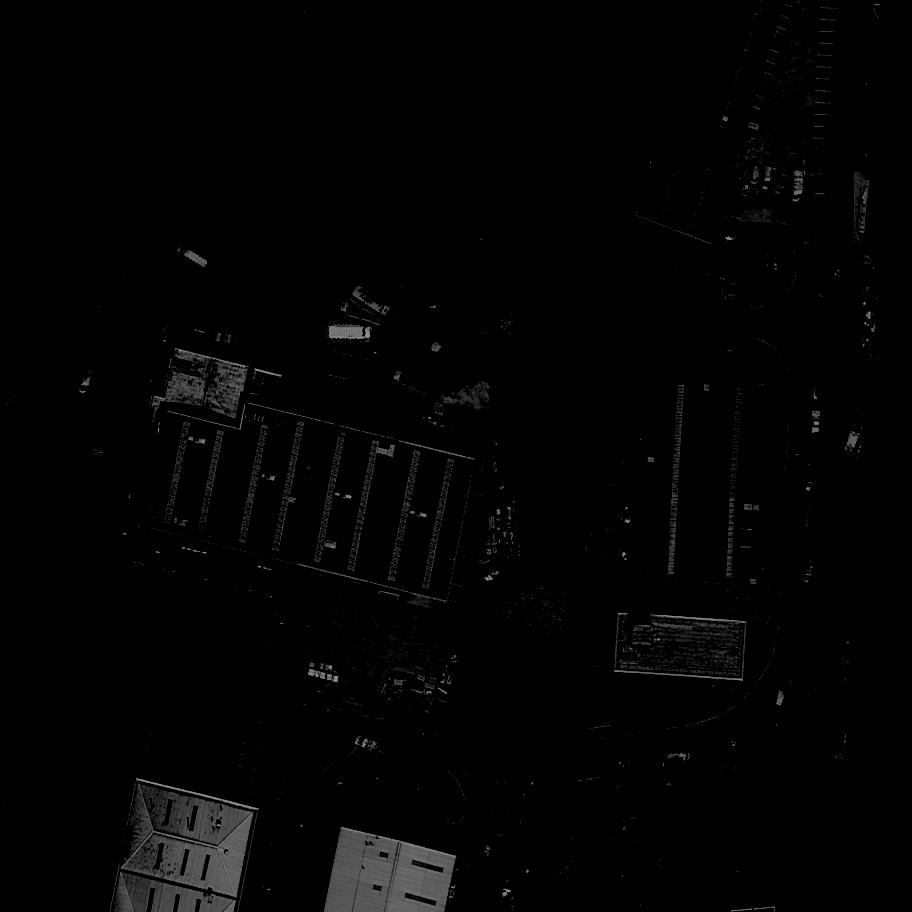large-vehicle: (348, 283, 395, 321), (336, 300, 386, 329), (388, 367, 433, 399), (177, 245, 211, 271), (327, 325, 372, 342), (801, 493, 820, 531), (396, 289, 439, 305), (771, 171, 791, 203), (353, 735, 382, 757), (797, 611, 815, 642), (790, 169, 805, 205), (761, 164, 774, 194), (800, 560, 815, 586), (774, 686, 790, 710), (665, 751, 690, 761), (750, 165, 760, 188)
ship: (828, 507, 869, 615), (854, 250, 878, 371), (837, 393, 878, 463), (858, 60, 875, 170), (854, 172, 871, 244), (833, 698, 852, 762), (834, 641, 856, 693), (829, 801, 847, 838)
small-vehicle: (812, 270, 836, 306), (723, 217, 743, 244), (92, 287, 112, 311), (729, 729, 752, 749), (619, 754, 641, 774), (93, 440, 116, 459), (77, 374, 94, 399), (137, 372, 162, 388), (288, 844, 305, 866), (295, 812, 310, 834), (740, 122, 761, 135), (270, 600, 284, 619), (811, 386, 823, 408), (804, 530, 815, 550), (812, 411, 821, 435), (807, 470, 817, 491), (582, 764, 599, 774), (802, 586, 811, 604), (483, 835, 491, 853), (808, 445, 816, 463)
